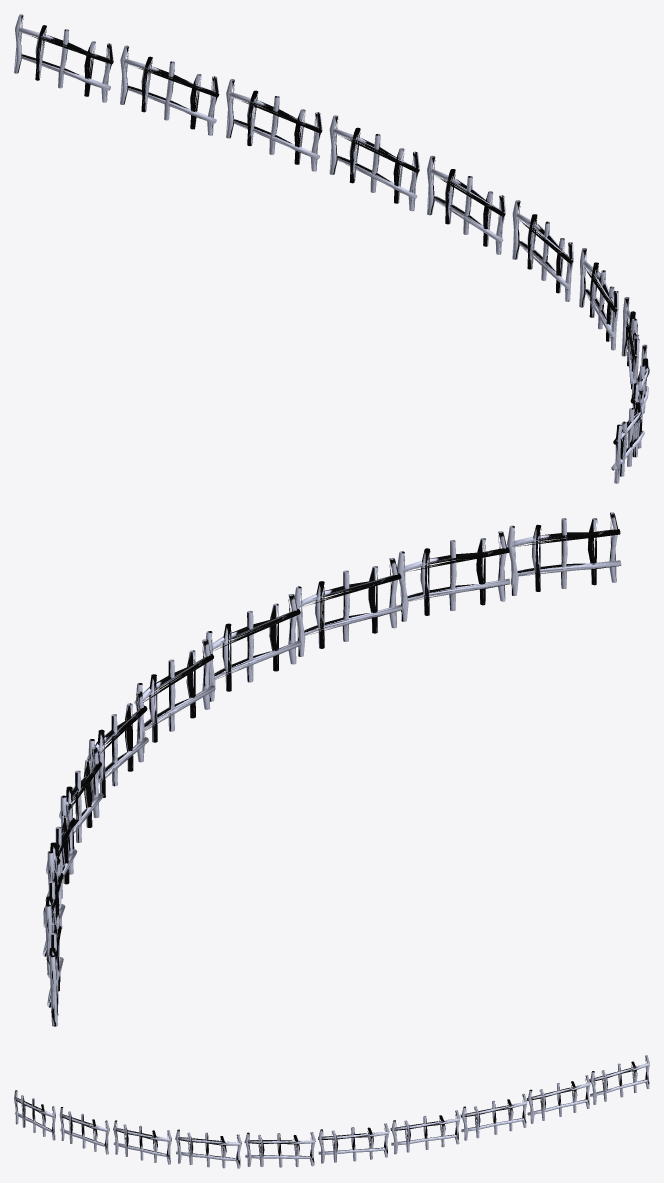
Rendered from fence1.obj.
3 renders of one model, top to bottom at view 1: azimuth 30°, elevation 25°; view 2: azimuth 150°, elevation 25°; view 3: azimuth 270°, elevation 25°, orthographic. The views are drawn at different scales.
Visible parts, largest first — view 1: Object_250; view 2: Object_250; view 3: Object_250.
Boxes of the visible parts, x1,y1,x2,y2 form: Object_250: [14, 14, 649, 483]; Object_250: [42, 512, 621, 1026]; Object_250: [14, 1055, 649, 1168].
Bounding box in the file's own units: 6.21 × 2.39 × 26.14.
1 material, 1 textured.
